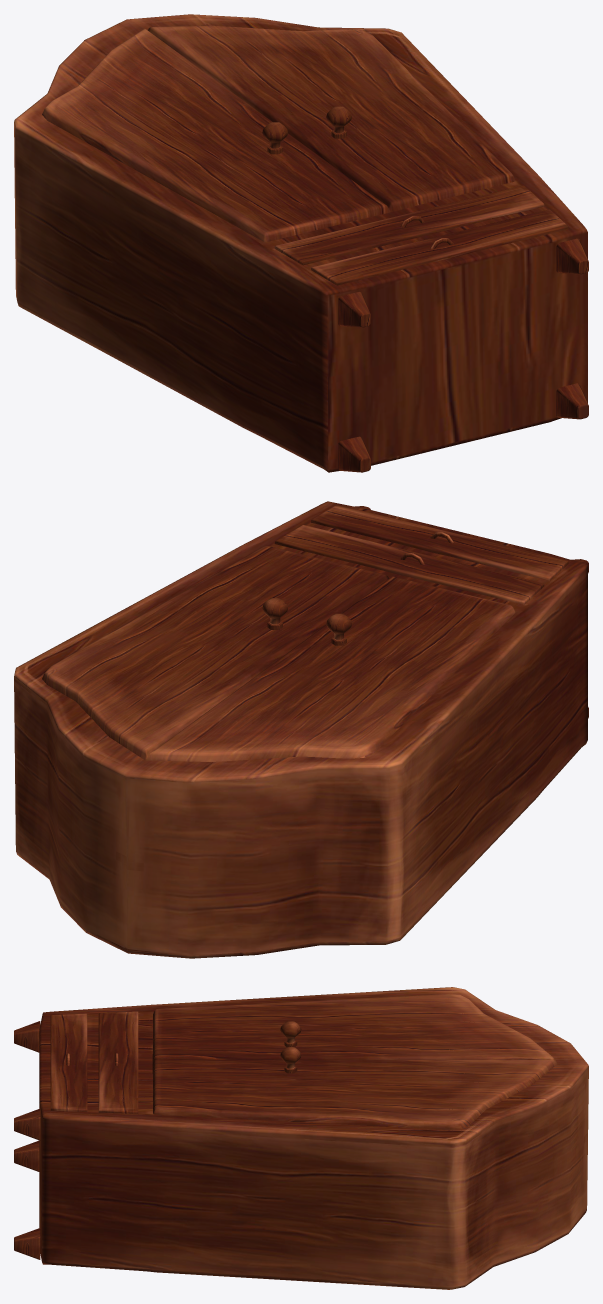
File: Armario Fin.FBX
The picture shows the model from 3 angles, top to bottom: view 1: azimuth 30°, elevation 25°; view 2: azimuth 150°, elevation 25°; view 3: azimuth 270°, elevation 25°; orthographic projection. The views are drawn at different scales.
Parts seen in each view (by area): view 1: Armario; view 2: Armario; view 3: Armario.
Part boxes in pixels (bbox=[...]): Armario: bbox=[14, 14, 588, 472]; Armario: bbox=[14, 501, 588, 958]; Armario: bbox=[14, 987, 588, 1289].
Size of the model in its own units: 49.65 by 26.87 by 77.51.
Materials: 1 (1 with a texture image).
